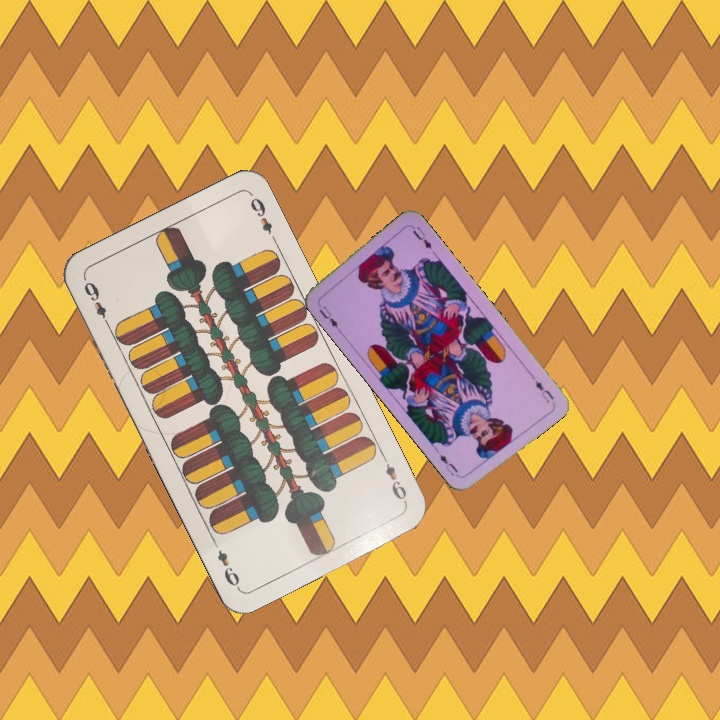E9: (79, 275, 113, 330), (378, 450, 410, 506)
EU: (314, 299, 341, 330), (531, 376, 556, 405)
